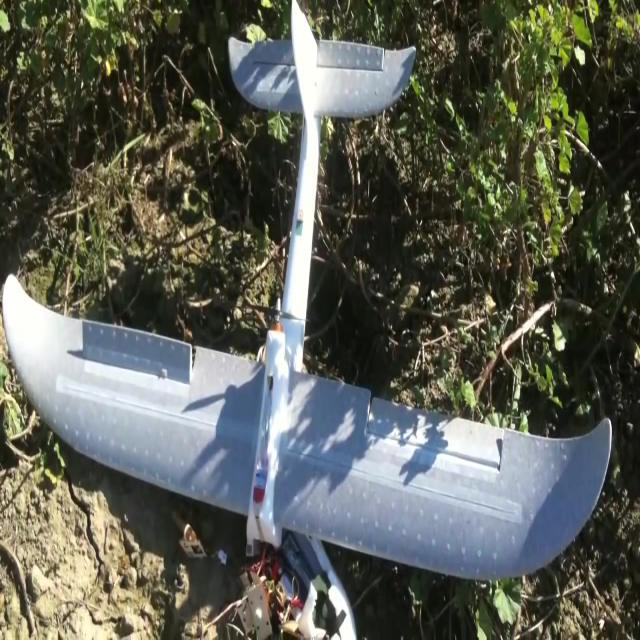iha: (0, 3, 615, 585)
